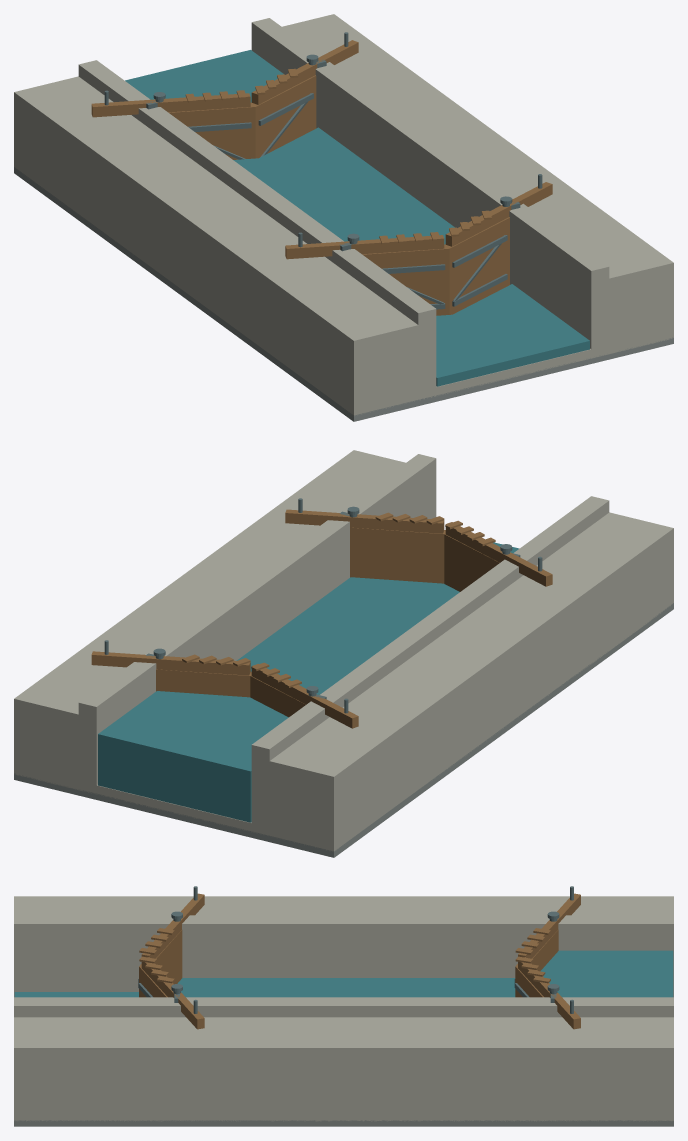
3 renders of one model, top to bottom at view 1: azimuth 30°, elevation 25°; view 2: azimuth 150°, elevation 25°; view 3: azimuth 270°, elevation 25°, orthographic. The views are drawn at different scales.
Parts seen in each view (by area): view 1: SceneOnlyCanalLockContinuousBanksAndBed, SceneOnlyCanalLockMiddleWater, SceneOnlyCanalLockLowerWater, lowergate__WholeShortOpenCanalMouth, uppergate__WholeShortOpenCanalMouth, SceneOnlyCanalLockFloor, SceneOnlyCanalLockUpperWater, lowergate__WholeMitredGateLeafRight, uppergate__WholeMitredGateLeafRight, lowergate__WholeMitredGateLeafLeft, uppergate__WholeMitredGateLeafLeft, uppergate__WholeLongShoreBalanceBeamLeft (+3 smaller); view 2: SceneOnlyCanalLockContinuousBanksAndBed, SceneOnlyCanalLockUpperWater, SceneOnlyCanalLockMiddleWater, lowergate__WholeShortOpenCanalMouth, lowergate__WholeMitredGateLeafRight, SceneOnlyCanalLockFloor, uppergate__WholeShortOpenCanalMouth, uppergate__WholeMitredGateLeafRight, uppergate__WholeLongShoreBalanceBeamRight, lowergate__WholeLongShoreBalanceBeamRight, lowergate__WholeMitredGateLeafLeft, lowergate__WholeLongShoreBalanceBeamLeft (+2 smaller); view 3: SceneOnlyCanalLockContinuousBanksAndBed, lowergate__WholeShortOpenCanalMouth, uppergate__WholeShortOpenCanalMouth, SceneOnlyCanalLockMiddleWater, SceneOnlyCanalLockUpperWater, SceneOnlyCanalLockFloor, lowergate__WholeMitredGateLeafLeft, lowergate__WholeLongShoreBalanceBeamRight, uppergate__WholeLongShoreBalanceBeamRight, lowergate__WholeLongShoreBalanceBeamLeft, uppergate__WholeLongShoreBalanceBeamLeft, SceneOnlyCanalLockLowerWater (+3 smaller).
Boxes of the visible parts, x1=… form: SceneOnlyCanalLockContinuousBanksAndBed: x1=14, y1=14, x2=673, y2=416; SceneOnlyCanalLockMiddleWater: x1=233, y1=127, x2=454, y2=244; SceneOnlyCanalLockLowerWater: x1=436, y1=284, x2=589, y2=386; lowergate__WholeShortOpenCanalMouth: x1=308, y1=186, x2=573, y2=315; uppergate__WholeShortOpenCanalMouth: x1=114, y1=44, x2=379, y2=158; SceneOnlyCanalLockFloor: x1=14, y1=167, x2=673, y2=421; SceneOnlyCanalLockUpperWater: x1=125, y1=50, x2=283, y2=102; lowergate__WholeMitredGateLeafRight: x1=444, y1=217, x2=509, y2=314; uppergate__WholeMitredGateLeafRight: x1=251, y1=75, x2=316, y2=158; lowergate__WholeMitredGateLeafLeft: x1=362, y1=245, x2=449, y2=315; uppergate__WholeMitredGateLeafLeft: x1=168, y1=103, x2=255, y2=159; uppergate__WholeLongShoreBalanceBeamLeft: x1=91, y1=93, x2=250, y2=117; SceneOnlyCanalLockContinuousBanksAndBed: x1=14, y1=450, x2=673, y2=851; SceneOnlyCanalLockUpperWater: x1=98, y1=691, x2=288, y2=822; SceneOnlyCanalLockMiddleWater: x1=236, y1=577, x2=459, y2=694; lowergate__WholeShortOpenCanalMouth: x1=308, y1=480, x2=573, y2=594; lowergate__WholeMitredGateLeafRight: x1=350, y1=527, x2=445, y2=583; SceneOnlyCanalLockFloor: x1=14, y1=603, x2=673, y2=857; uppergate__WholeShortOpenCanalMouth: x1=114, y1=622, x2=379, y2=734; uppergate__WholeMitredGateLeafRight: x1=156, y1=669, x2=251, y2=697; uppergate__WholeLongShoreBalanceBeamRight: x1=91, y1=651, x2=250, y2=675; lowergate__WholeLongShoreBalanceBeamRight: x1=285, y1=509, x2=444, y2=533; lowergate__WholeMitredGateLeafLeft: x1=444, y1=533, x2=499, y2=591; lowergate__WholeLongShoreBalanceBeamLeft: x1=445, y1=522, x2=552, y2=586; SceneOnlyCanalLockContinuousBanksAndBed: x1=14, y1=896, x2=673, y2=1121; lowergate__WholeShortOpenCanalMouth: x1=83, y1=915, x2=228, y2=1017; uppergate__WholeShortOpenCanalMouth: x1=459, y1=915, x2=604, y2=1017; SceneOnlyCanalLockMiddleWater: x1=177, y1=978, x2=515, y2=997; SceneOnlyCanalLockUpperWater: x1=540, y1=950, x2=673, y2=997; SceneOnlyCanalLockFloor: x1=14, y1=1120, x2=673, y2=1126; lowergate__WholeMitredGateLeafLeft: x1=139, y1=930, x2=182, y2=984; lowergate__WholeLongShoreBalanceBeamRight: x1=141, y1=957, x2=204, y2=1029; uppergate__WholeLongShoreBalanceBeamRight: x1=518, y1=957, x2=580, y2=1029; lowergate__WholeLongShoreBalanceBeamLeft: x1=141, y1=893, x2=204, y2=958; uppergate__WholeLongShoreBalanceBeamLeft: x1=518, y1=893, x2=580, y2=958; SceneOnlyCanalLockLowerWater: x1=14, y1=992, x2=138, y2=997.
Size of the model in its own units: 6.2 by 2.04 by 11.4.
